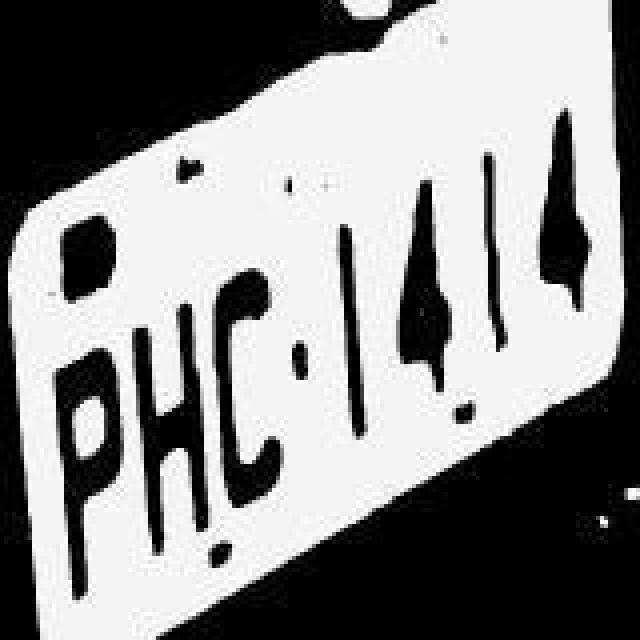1: (328, 202, 376, 486), (472, 100, 520, 380)
4: (526, 92, 602, 356), (388, 156, 460, 404)
C: (212, 244, 292, 524)
H: (134, 268, 210, 548)
P: (48, 326, 128, 618)
